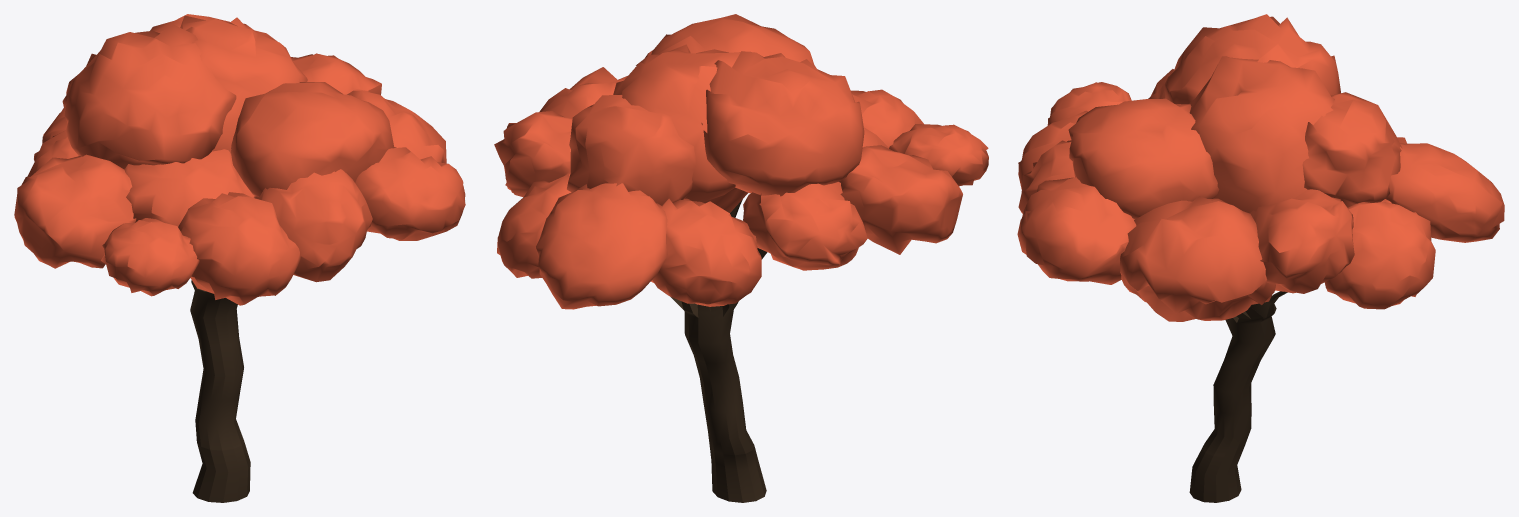
File: tree3.fbx
3 views of the same model, side by side, from view 1: azimuth 30°, elevation 25°; view 2: azimuth 150°, elevation 25°; view 3: azimuth 270°, elevation 25° (orthographic). The views are drawn at different scales.
Parts seen in each view (by area): view 1: tree5; view 2: tree5; view 3: tree5.
Part boxes in pixels (box(x1,y1,x2,y2)): tree5: box(14, 14, 465, 502); tree5: box(494, 14, 988, 502); tree5: box(1017, 14, 1504, 502).
Size of the model in its own units: 6.04 by 6.37 by 6.39.
